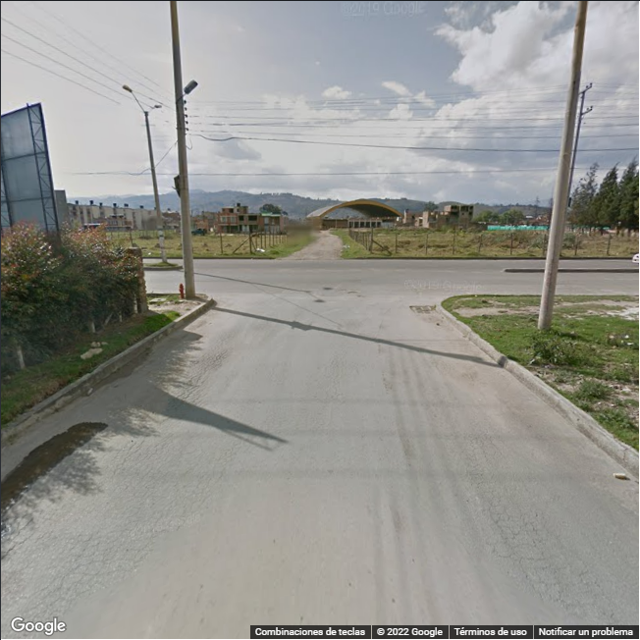D20: (461, 451, 602, 593), (88, 440, 232, 520), (6, 545, 149, 617)
